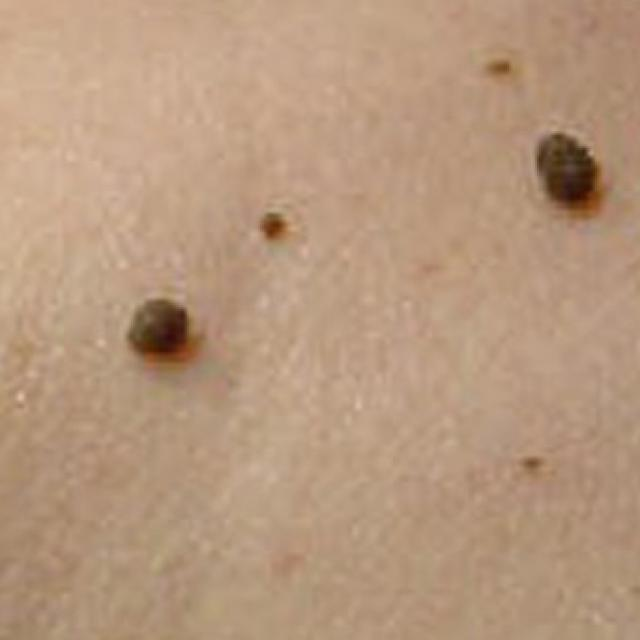wart: (526, 127, 614, 205), (118, 290, 193, 358)
